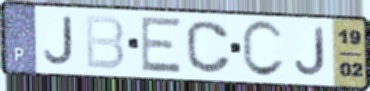B: (83, 13, 127, 72)
C: (239, 18, 287, 80), (183, 19, 235, 76)
E: (139, 15, 184, 76)
J: (292, 25, 328, 78), (42, 15, 76, 67)
